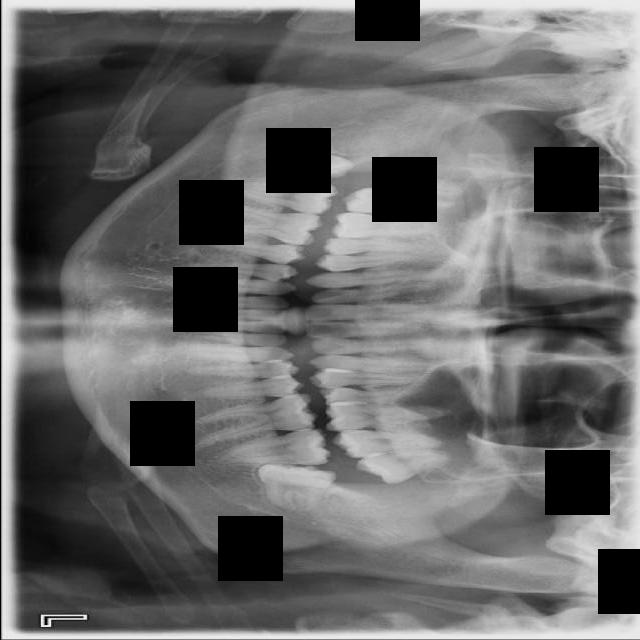3M ESPE Implant: (372, 159, 468, 205)
73: (18, 629, 27, 633)
BioHorizons Implant: (330, 428, 445, 462)
BioLife Implant: (353, 442, 454, 489)
Biomet 3i Implant: (251, 457, 337, 521)
Blue Sky Bio Implant: (215, 428, 331, 465)
Caries: (340, 186, 460, 215)
Implant: (220, 180, 339, 215)
Keystone Dental Implant: (269, 126, 356, 196)
